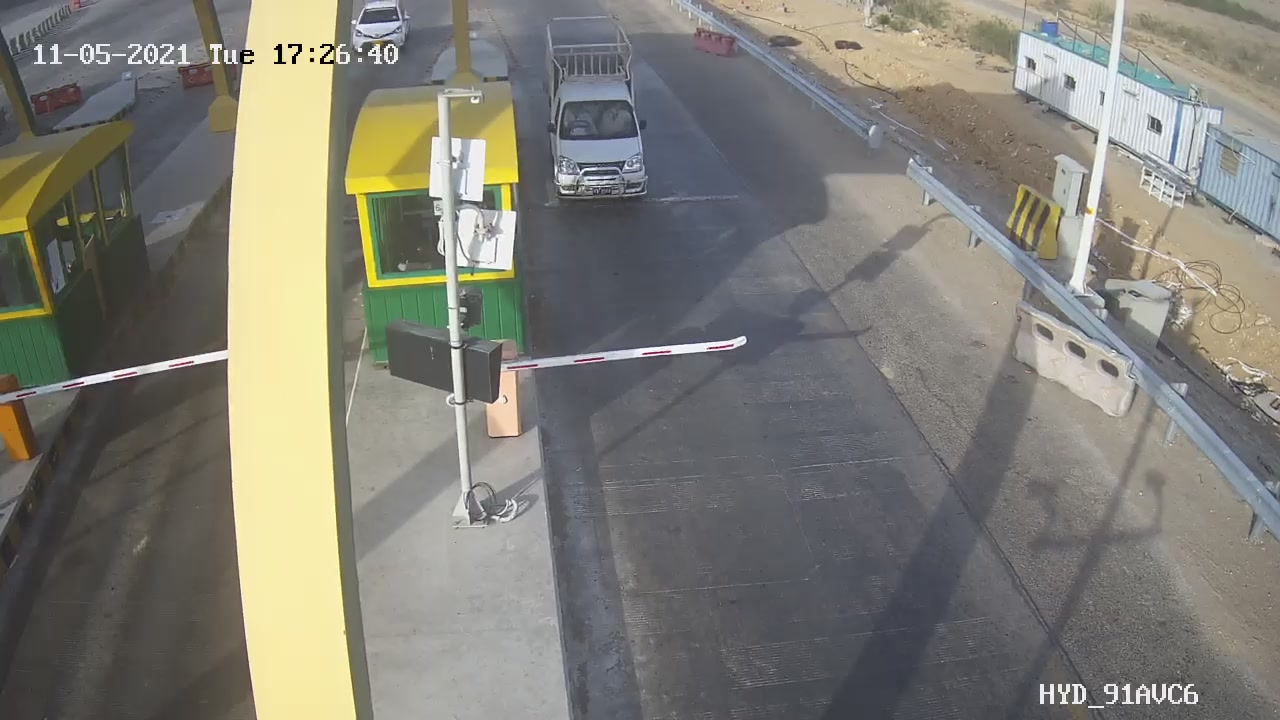F2: (525, 8, 670, 225)
